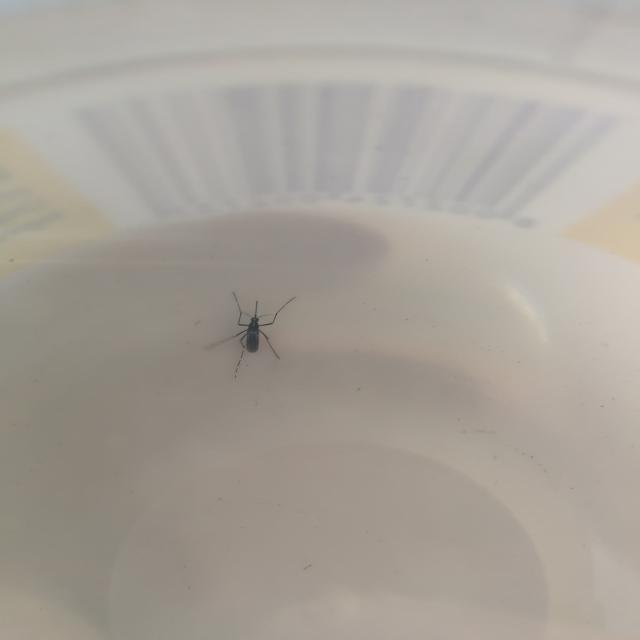albopictus: (202, 283, 301, 378)
